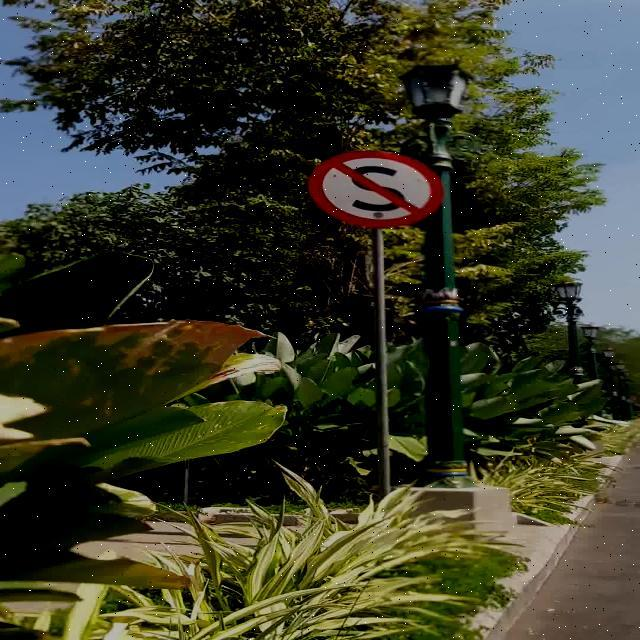Dilarang Berhenti: (307, 151, 443, 227)
